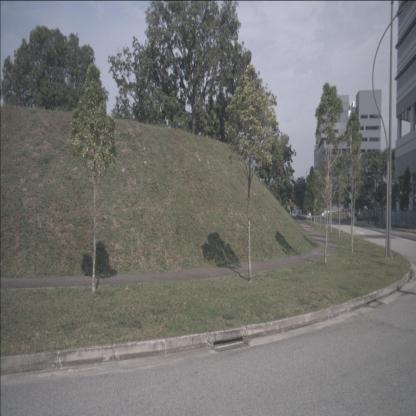human-pedestrian-adult: (367, 215, 370, 226)
